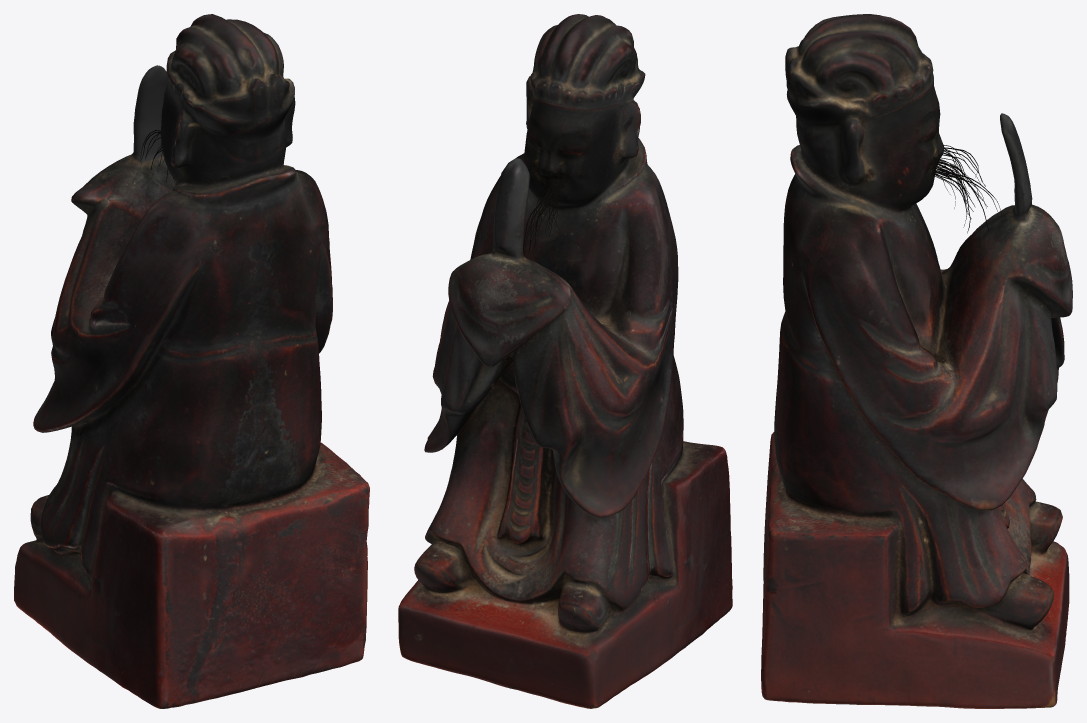
Rendered from MTY001785.glb.
3 renders of one model, left to right at view 1: azimuth 30°, elevation 25°; view 2: azimuth 150°, elevation 25°; view 3: azimuth 270°, elevation 25°, orthographic. The views are drawn at different scales.
Visible parts, largest first — view 1: MTY001785.007_MTY001785.048; view 2: MTY001785.007_MTY001785.048; view 3: MTY001785.007_MTY001785.048.
Part boxes in pixels (left/top/right/bottom): MTY001785.007_MTY001785.048: left=14, top=14, right=369, bottom=708; MTY001785.007_MTY001785.048: left=398, top=14, right=732, bottom=708; MTY001785.007_MTY001785.048: left=761, top=14, right=1072, bottom=708.
Bounding box in the file's own units: 22.25 × 58.76 × 25.72.
Materials: 1 (1 with a texture image).
